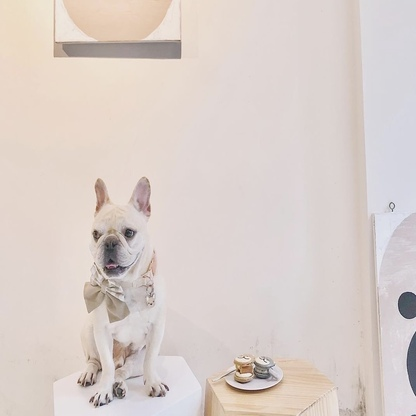bulldog: (76, 173, 172, 409)
